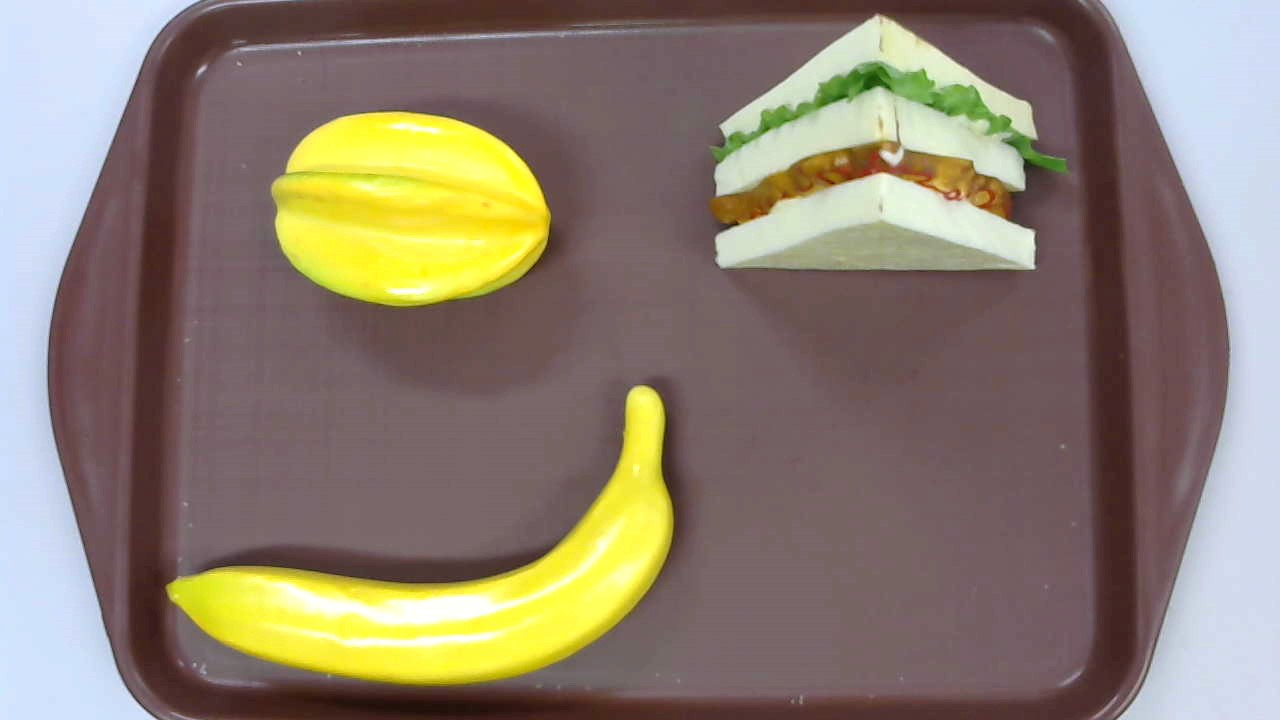banana: (164, 384, 676, 688)
sandwich: (706, 13, 1072, 275)
star fruit: (271, 110, 553, 308)
